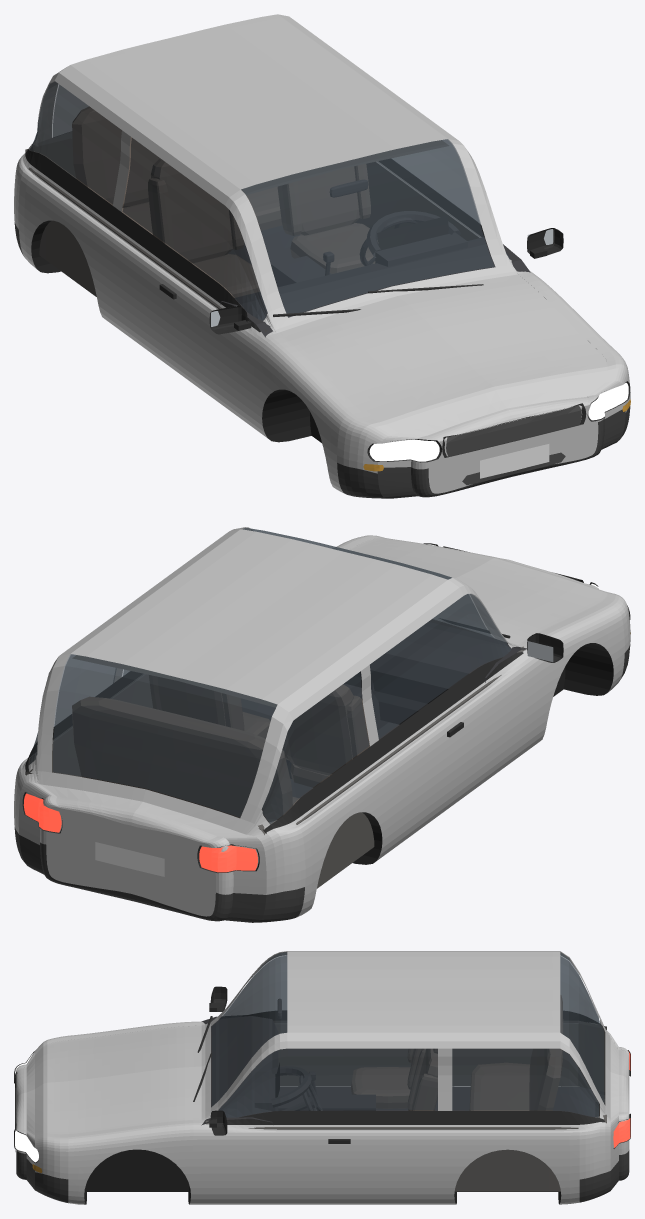
The model's file is car_kestrel.fbx.
3 renders of one model, top to bottom at view 1: azimuth 30°, elevation 25°; view 2: azimuth 150°, elevation 25°; view 3: azimuth 270°, elevation 25°, orthographic. The views are drawn at different scales.
Visible parts, largest first — view 1: kestrel__glass, kestrel__roof, kestrel__hood, kestrel__seats, kestrel__interior, kestrel__doorR, kestrel__quarterR, kestrel__cabin, kestrel__pillars, kestrel__fenderFR, kestrel__seals, kestrel__fascia (+10 smaller); view 2: kestrel__glass, kestrel__roof, kestrel__seats, kestrel__quarterR, kestrel__hood, kestrel__rearPanel, kestrel__doorR, kestrel__interior, kestrel__pillars, kestrel__trunk, kestrel__cabin, kestrel__seals (+6 smaller); view 3: kestrel__glass, kestrel__roof, kestrel__hood, kestrel__quarterL, kestrel__doorL, kestrel__cabin, kestrel__interior, kestrel__seats, kestrel__fenderFL, kestrel__seals, kestrel__pillars, kestrel__wells (+7 smaller).
Boxes of the visible parts, box(x1,y1,x2,y2) form: kestrel__glass: box(29, 81, 510, 320); kestrel__roof: box(59, 14, 458, 197); kestrel__hood: box(266, 272, 619, 441); kestrel__seats: box(72, 106, 378, 297); kestrel__interior: box(220, 179, 530, 337); kestrel__doorR: box(144, 257, 259, 429); kestrel__quarterR: box(14, 153, 155, 352); kestrel__cabin: box(25, 138, 479, 331); kestrel__pillars: box(29, 67, 513, 325); kestrel__fenderFR: box(248, 332, 418, 493); kestrel__seals: box(25, 149, 484, 332); kestrel__fascia: box(411, 395, 603, 493); kestrel__glass: box(29, 528, 510, 823); kestrel__roof: box(59, 529, 459, 711); kestrel__seats: box(72, 675, 369, 822); kestrel__quarterR: box(226, 729, 432, 917); kestrel__hood: box(335, 535, 619, 647); kestrel__rearPanel: box(40, 796, 233, 916); kestrel__doorR: box(421, 653, 535, 824); kestrel__interior: box(241, 622, 526, 798); kestrel__pillars: box(28, 527, 513, 828); kestrel__trunk: box(26, 619, 526, 847); kestrel__cabin: box(25, 646, 525, 888); kestrel__seals: box(25, 652, 523, 831); kestrel__glass: box(211, 952, 604, 1117); kestrel__roof: box(287, 951, 560, 1041); kestrel__hood: box(16, 1021, 201, 1139); kestrel__quarterL: box(377, 1116, 618, 1204); kestrel__doorL: box(211, 1125, 376, 1204); kestrel__cabin: box(205, 1020, 606, 1191); kestrel__interior: box(201, 998, 595, 1125); kestrel__seats: box(351, 995, 563, 1110); kestrel__fenderFL: box(26, 1125, 210, 1204); kestrel__seals: box(227, 1010, 604, 1124); kestrel__pillars: box(211, 951, 605, 1119); kestrel__wells: box(84, 1149, 561, 1204).
Size of the model in its own units: 2.18 by 1.23 by 4.17.
